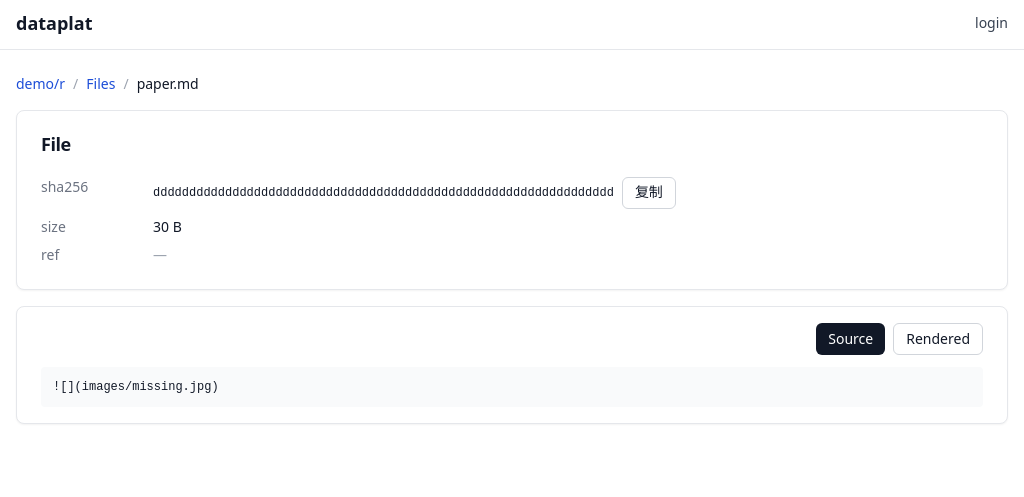
Test: BlobPage rendering › md image but entry not found in tree → 透传 + 提示
The width and height of the screenshot is (1024, 497).
Click the button "Rendered" at (938, 339), box left=893, top=323, right=983, bottom=355
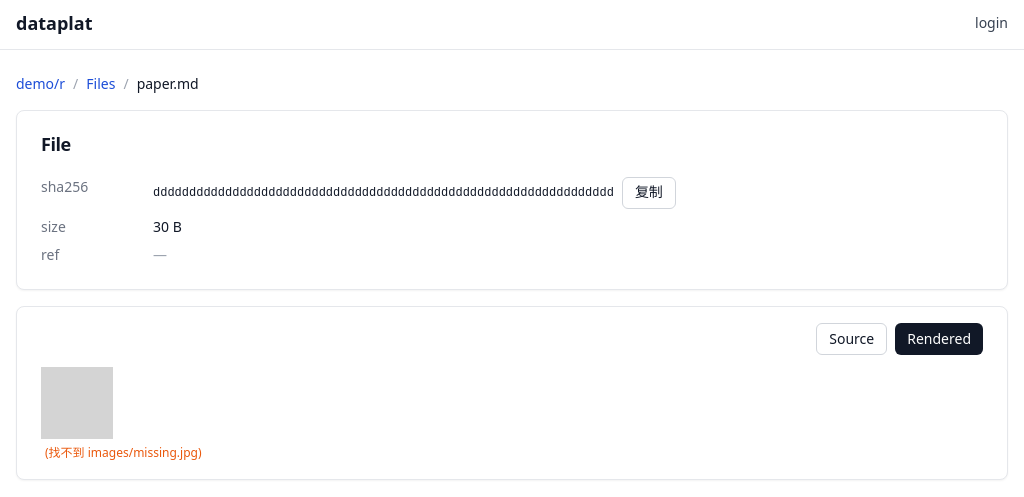
Expected: the text "(找不到 images/missing.jpg)" is shown, left=45, top=444, right=202, bottom=461
